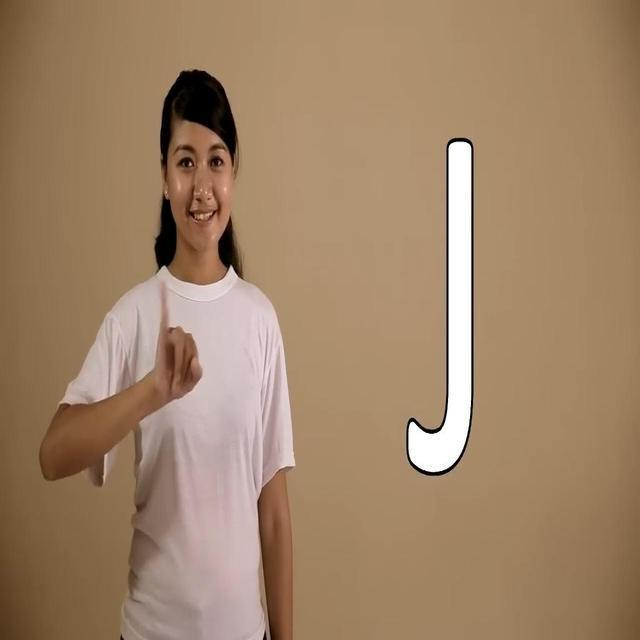I: (148, 279, 206, 397)
